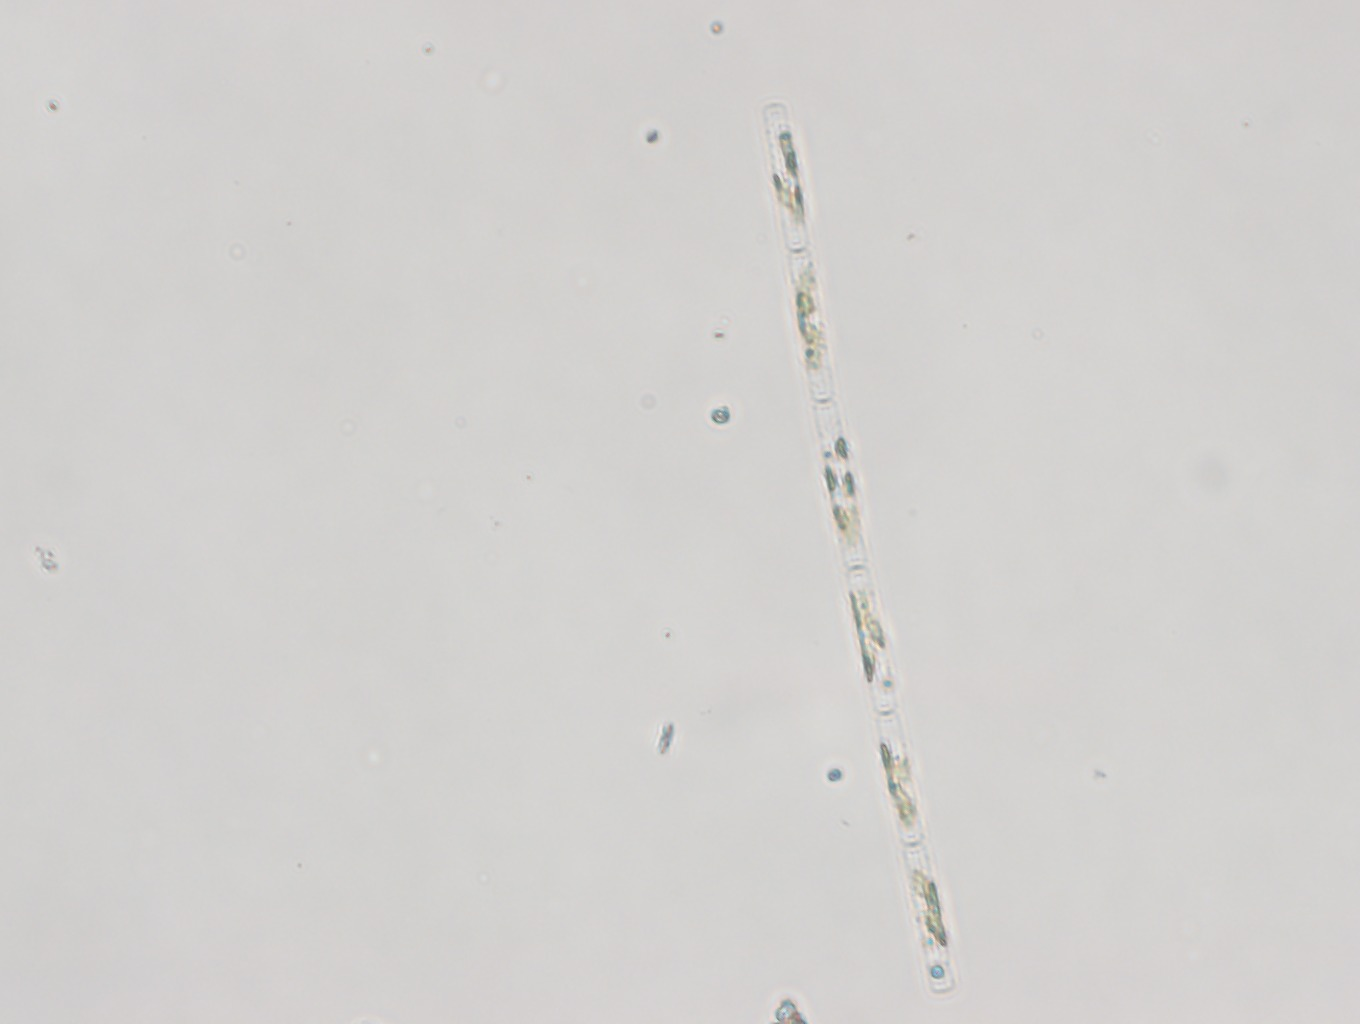guinardia flaccida: (744, 80, 990, 1002)
